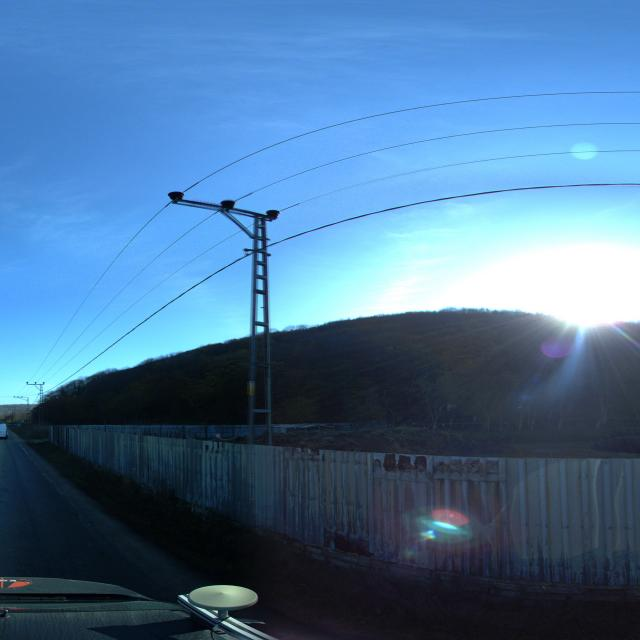Utility Pole Information Plate: (249, 381, 254, 395)
